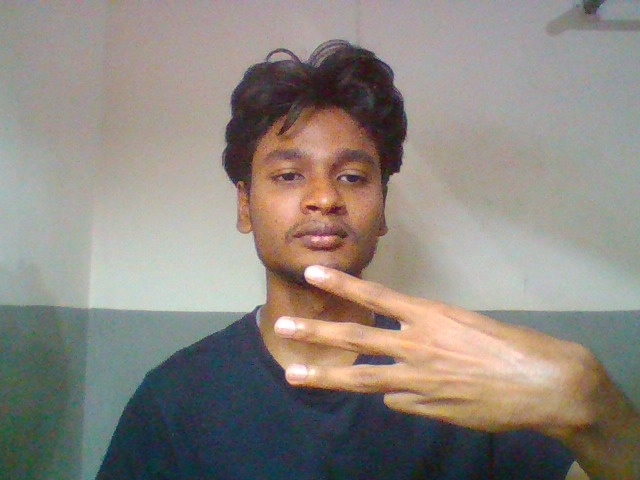E: (254, 245, 627, 459)
